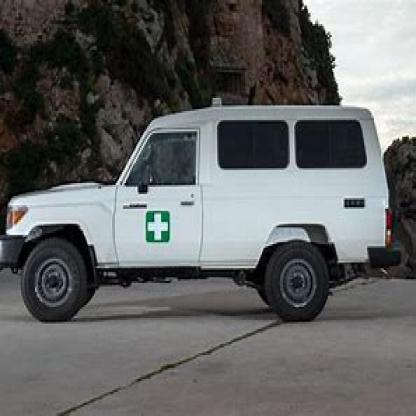light_vehicle: (6, 98, 394, 325)
